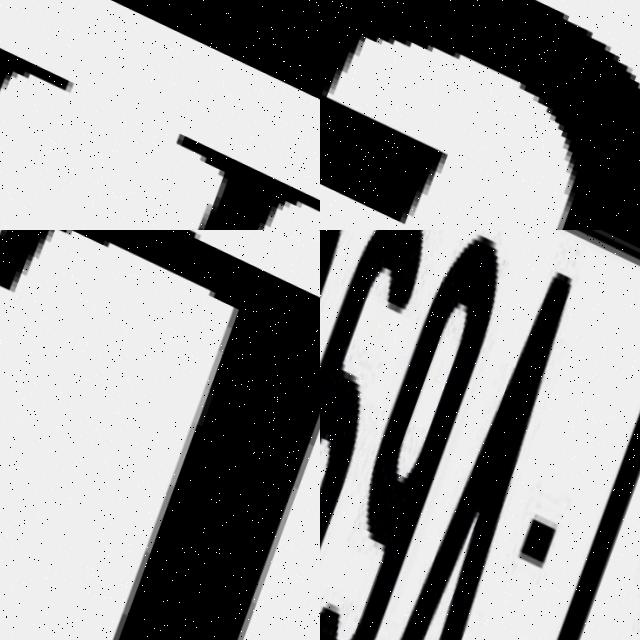6: (320, 230, 538, 640)
9: (320, 230, 463, 640)
G: (320, 0, 640, 230)
L: (0, 230, 320, 640)
S: (520, 299, 640, 640), (320, 230, 386, 640)
T: (451, 295, 640, 640)
V: (321, 247, 608, 640)
